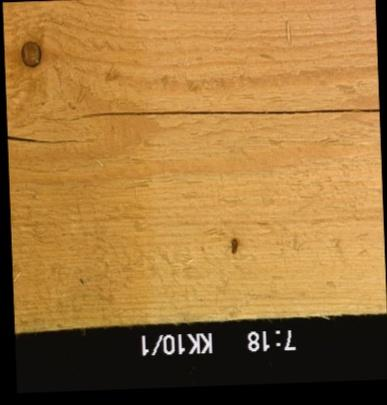dry_knot: (18, 39, 41, 68), (227, 236, 238, 255)
split: (78, 106, 378, 118), (6, 132, 88, 145)
